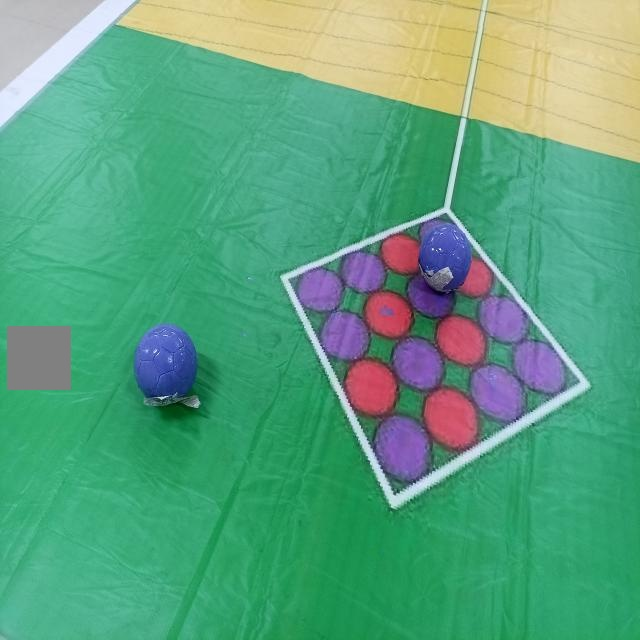purple_ball: (136, 326, 197, 400), (420, 228, 470, 288)
